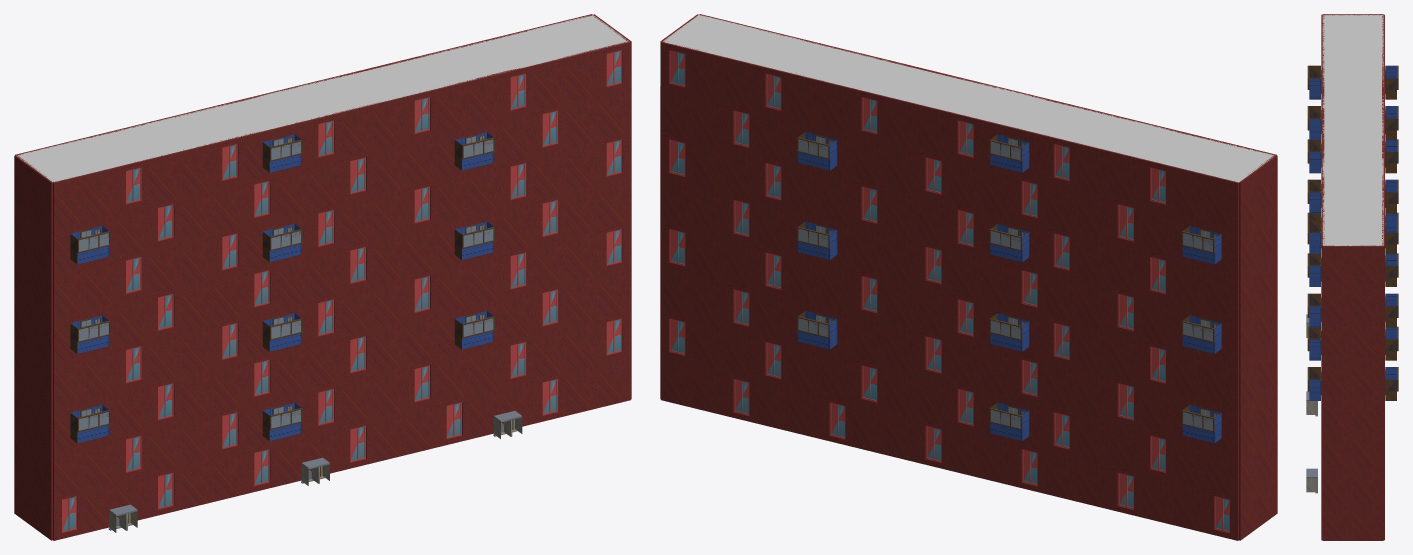
File: house.obj
3 views of the same model, side by side, from view 1: azimuth 30°, elevation 25°; view 2: azimuth 150°, elevation 25°; view 3: azimuth 270°, elevation 25° (orthographic). The views are drawn at different scales.
Parts seen in each view (by area): view 1: geometry_0, geometry_174, geometry_178, geometry_169, geometry_173, geometry_162, geometry_170, geometry_177, geometry_157, geometry_161, geometry_31, geometry_144 (+159 smaller); view 2: geometry_0, geometry_383, geometry_362, geometry_366, geometry_367, geometry_379, geometry_374, geometry_378, geometry_382, geometry_375, geometry_236, geometry_349 (+159 smaller); view 3: geometry_0, geometry_426, geometry_414, geometry_416, geometry_424, geometry_427, geometry_412, geometry_418, geometry_420, geometry_422, geometry_415, geometry_417 (+25 smaller).
Boxes of the visible parts, x1=… form: geometry_0: x1=16, y1=14, x2=628, y2=181; geometry_174: x1=469, y1=72, x2=502, y2=125; geometry_178: x1=566, y1=49, x2=598, y2=102; geometry_169: x1=341, y1=104, x2=374, y2=157; geometry_173: x1=438, y1=80, x2=470, y2=133; geometry_162: x1=181, y1=143, x2=214, y2=196; geometry_170: x1=373, y1=96, x2=406, y2=149; geometry_177: x1=534, y1=57, x2=566, y2=110; geometry_157: x1=53, y1=175, x2=85, y2=227; geometry_161: x1=149, y1=151, x2=182, y2=204; geometry_31: x1=342, y1=373, x2=374, y2=425; geometry_144: x1=278, y1=165, x2=310, y2=217; geometry_0: x1=662, y1=14, x2=1274, y2=182; geometry_383: x1=693, y1=49, x2=725, y2=102; geometry_362: x1=1206, y1=175, x2=1238, y2=227; geometry_366: x1=1109, y1=151, x2=1142, y2=204; geometry_367: x1=1077, y1=143, x2=1110, y2=196; geometry_379: x1=789, y1=73, x2=821, y2=125; geometry_374: x1=917, y1=104, x2=949, y2=157; geometry_378: x1=821, y1=81, x2=853, y2=133; geometry_382: x1=725, y1=57, x2=757, y2=110; geometry_375: x1=885, y1=96, x2=917, y2=149; geometry_236: x1=917, y1=373, x2=949, y2=425; geometry_349: x1=981, y1=165, x2=1013, y2=217; geometry_0: x1=1322, y1=14, x2=1383, y2=245; geometry_426: x1=1322, y1=245, x2=1353, y2=283; geometry_414: x1=1322, y1=467, x2=1353, y2=504; geometry_416: x1=1322, y1=430, x2=1353, y2=467; geometry_424: x1=1322, y1=283, x2=1353, y2=320; geometry_427: x1=1353, y1=245, x2=1383, y2=283; geometry_412: x1=1322, y1=504, x2=1353, y2=540; geometry_418: x1=1322, y1=394, x2=1353, y2=430; geometry_420: x1=1322, y1=357, x2=1353, y2=393; geometry_422: x1=1322, y1=320, x2=1353, y2=356; geometry_415: x1=1353, y1=467, x2=1383, y2=504; geometry_417: x1=1353, y1=430, x2=1383, y2=467.
Size of the model in its own units: 54.3 by 32 by 9.08.
